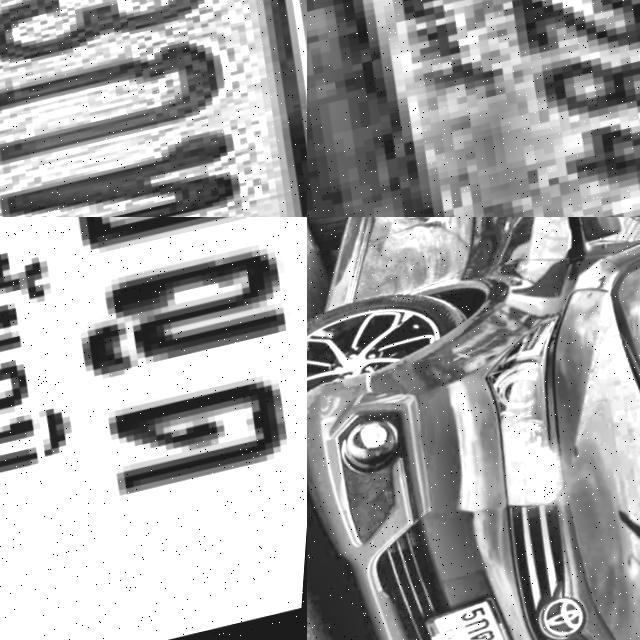license-plate: (0, 217, 307, 640), (307, 0, 640, 217), (0, 0, 307, 217), (421, 586, 541, 640)
